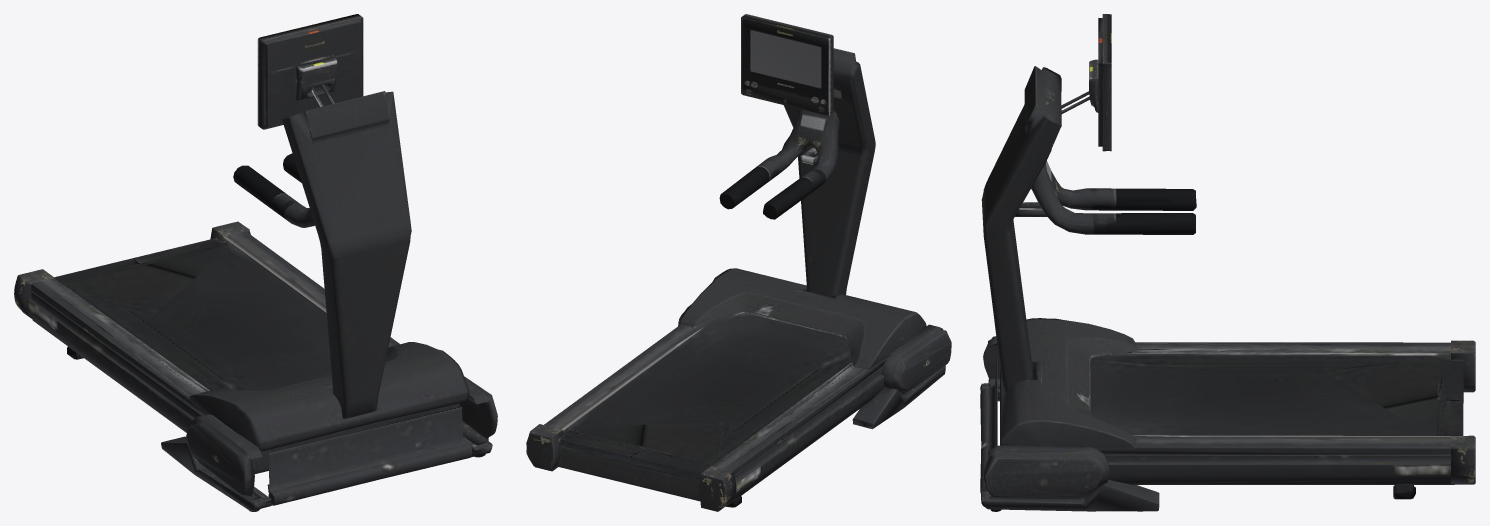
Rendered from office-treadmill.glb.
3 renders of one model, left to right at view 1: azimuth 30°, elevation 25°; view 2: azimuth 150°, elevation 25°; view 3: azimuth 270°, elevation 25°, orthographic. The views are drawn at different scales.
Parts seen in each view (by area): view 1: treadmill; view 2: treadmill; view 3: treadmill.
Part boxes in pixels (x1,y1,x2,y2): treadmill: [14, 14, 497, 511]; treadmill: [526, 14, 951, 511]; treadmill: [980, 14, 1475, 511].
Size of the model in its own units: 1.19 by 1.85 by 2.
1 material, 1 textured.
